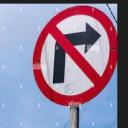NoVirarDireita: (33, 4, 117, 107)
